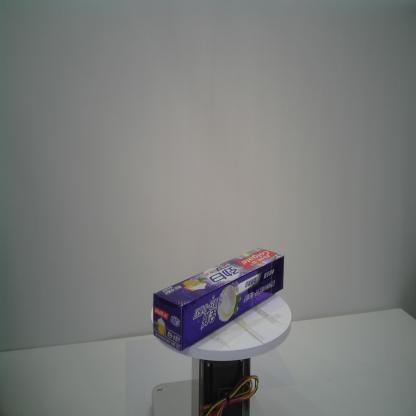Personal Hygiene: (153, 246, 284, 351)
